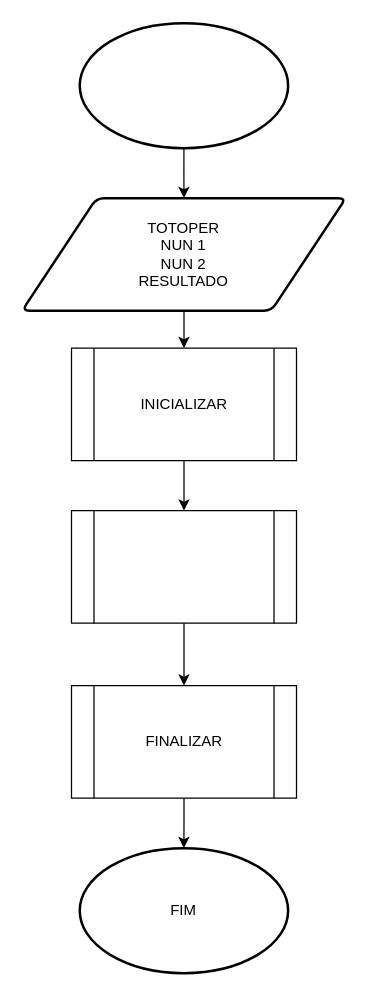
This 369x995 diagram has some shape labels left out. The shapes that lost their labels are listed below. From the top down, each one's box as (x1, y1, x2, y2) in pixels, then its label:
(78, 21, 289, 149): INICIO
(70, 509, 296, 623): PROCESSAR
